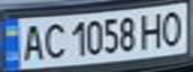0: (84, 17, 106, 56)
1: (66, 18, 87, 57)
5: (103, 15, 124, 54)
8: (118, 14, 142, 52)
A: (18, 20, 48, 62)
C: (39, 20, 66, 61)
H: (136, 10, 166, 49)
O: (157, 7, 187, 47)
